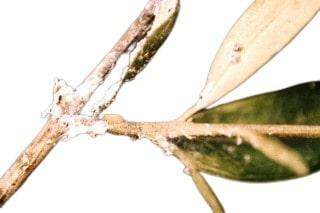Psyllid: (45, 74, 149, 139), (86, 6, 178, 72)
